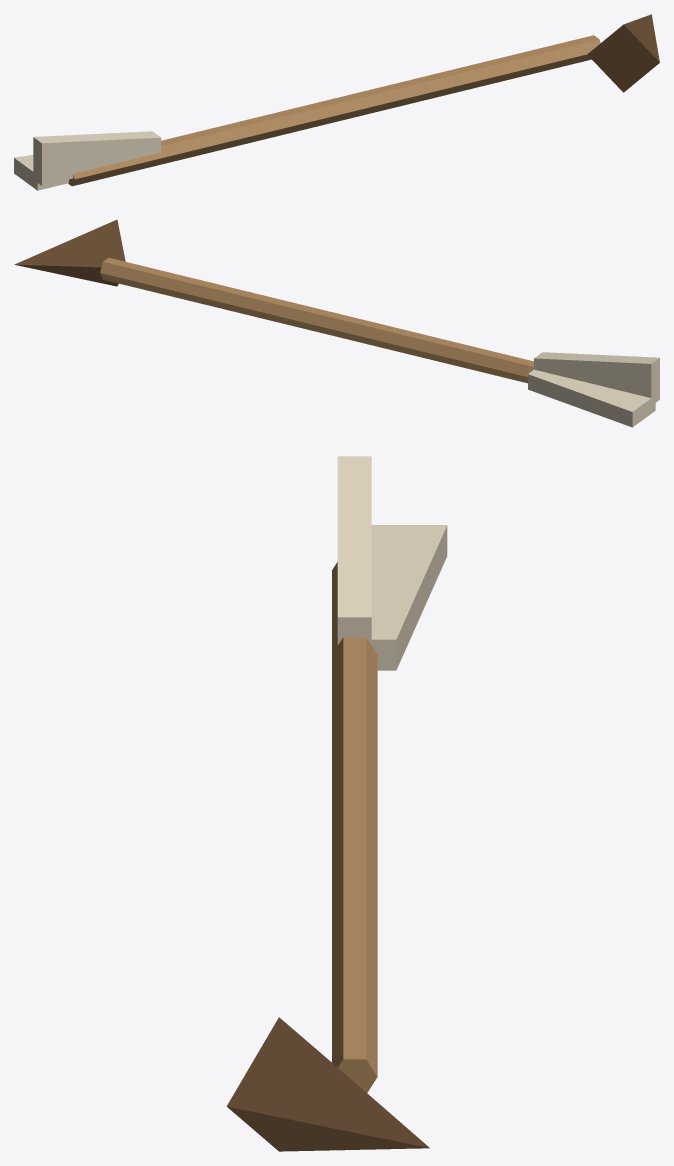
Rendered from BlackBronzeArrowStack4.glb.
3 views of the same model, one above another, from view 1: azimuth 30°, elevation 25°; view 2: azimuth 150°, elevation 25°; view 3: azimuth 270°, elevation 25° (orthographic). The views are drawn at different scales.
Visible parts, largest first — view 1: BlackBronzeArrow_1_shaft, BlackBronzeArrow_4_shaft, BlackBronzeArrow_2_shaft, BlackBronzeArrow_1_fletch_v, BlackBronzeArrow_3_shaft, BlackBronzeArrow_2_fletch_v, BlackBronzeArrow_4_head, BlackBronzeArrow_1_head, BlackBronzeArrow_3_head, BlackBronzeArrow_4_fletch_v, BlackBronzeArrow_1_fletch_h, BlackBronzeArrow_3_fletch_v (+1 smaller); view 2: BlackBronzeArrow_1_shaft, BlackBronzeArrow_3_shaft, BlackBronzeArrow_4_shaft, BlackBronzeArrow_1_fletch_h, BlackBronzeArrow_1_fletch_v, BlackBronzeArrow_1_head, BlackBronzeArrow_2_fletch_v, BlackBronzeArrow_2_shaft, BlackBronzeArrow_3_head, BlackBronzeArrow_3_fletch_h, BlackBronzeArrow_2_head, BlackBronzeArrow_3_fletch_v; view 3: BlackBronzeArrow_1_head, BlackBronzeArrow_4_shaft, BlackBronzeArrow_1_shaft, BlackBronzeArrow_3_shaft, BlackBronzeArrow_3_fletch_v, BlackBronzeArrow_1_fletch_h, BlackBronzeArrow_3_fletch_h, BlackBronzeArrow_2_shaft, BlackBronzeArrow_1_fletch_v, BlackBronzeArrow_4_fletch_h, BlackBronzeArrow_3_head, BlackBronzeArrow_2_fletch_h.
Part boxes in pixels (bbox=[...]): BlackBronzeArrow_1_shaft: bbox=[68, 35, 599, 185]; BlackBronzeArrow_4_shaft: bbox=[203, 39, 600, 153]; BlackBronzeArrow_2_shaft: bbox=[68, 54, 591, 185]; BlackBronzeArrow_1_fletch_v: bbox=[33, 131, 161, 185]; BlackBronzeArrow_3_shaft: bbox=[72, 96, 347, 186]; BlackBronzeArrow_2_fletch_v: bbox=[33, 133, 161, 185]; BlackBronzeArrow_4_head: bbox=[587, 24, 659, 92]; BlackBronzeArrow_1_head: bbox=[589, 14, 659, 92]; BlackBronzeArrow_3_head: bbox=[624, 15, 659, 62]; BlackBronzeArrow_4_fletch_v: bbox=[41, 135, 149, 184]; BlackBronzeArrow_1_fletch_h: bbox=[14, 158, 68, 190]; BlackBronzeArrow_3_fletch_v: bbox=[34, 131, 142, 143]; BlackBronzeArrow_1_shaft: bbox=[100, 257, 527, 380]; BlackBronzeArrow_3_shaft: bbox=[100, 262, 533, 375]; BlackBronzeArrow_4_shaft: bbox=[190, 293, 533, 383]; BlackBronzeArrow_1_fletch_h: bbox=[528, 369, 655, 427]; BlackBronzeArrow_1_fletch_v: bbox=[534, 352, 659, 402]; BlackBronzeArrow_1_head: bbox=[15, 219, 124, 284]; BlackBronzeArrow_2_fletch_v: bbox=[534, 352, 659, 404]; BlackBronzeArrow_2_shaft: bbox=[147, 283, 532, 376]; BlackBronzeArrow_3_head: bbox=[19, 220, 125, 285]; BlackBronzeArrow_3_fletch_h: bbox=[528, 370, 641, 416]; BlackBronzeArrow_2_head: bbox=[14, 220, 124, 286]; BlackBronzeArrow_3_fletch_v: bbox=[536, 352, 659, 394]; BlackBronzeArrow_1_head: bbox=[227, 1017, 429, 1151]; BlackBronzeArrow_4_shaft: bbox=[332, 654, 376, 1091]; BlackBronzeArrow_1_shaft: bbox=[338, 667, 377, 1092]; BlackBronzeArrow_3_shaft: bbox=[332, 562, 376, 1089]; BlackBronzeArrow_3_fletch_v: bbox=[337, 456, 371, 644]; BlackBronzeArrow_1_fletch_h: bbox=[369, 525, 446, 670]; BlackBronzeArrow_3_fletch_h: bbox=[368, 525, 446, 670]; BlackBronzeArrow_2_shaft: bbox=[334, 637, 377, 1092]; BlackBronzeArrow_1_fletch_v: bbox=[337, 456, 371, 644]; BlackBronzeArrow_4_fletch_h: bbox=[369, 525, 447, 667]; BlackBronzeArrow_3_head: bbox=[228, 1025, 428, 1147]; BlackBronzeArrow_2_fletch_h: bbox=[370, 525, 443, 670].
Bounding box in the file's own units: 1.01 × 0.117 × 0.1548.
